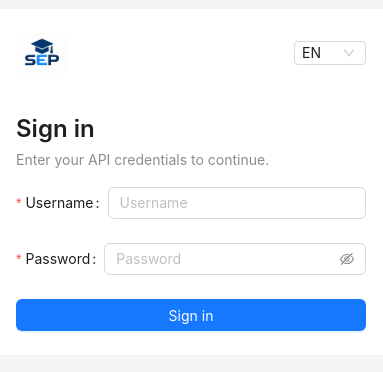
Test case: LoginPage › shows validation errors when submitting empty fields
The image size is (383, 372).
Click the button "Sign in": {"x": 191, "y": 315} [16, 299, 366, 331]
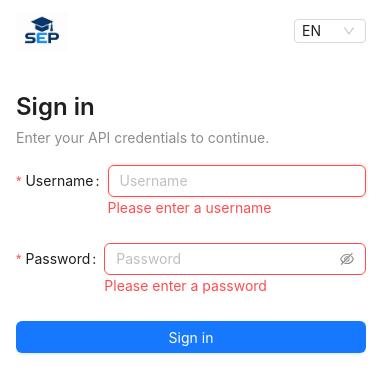
Result: the text "Please enter a username" is shown at [108, 199, 271, 216]
Result: the text "Please enter a password" is shown at [104, 277, 267, 294]
